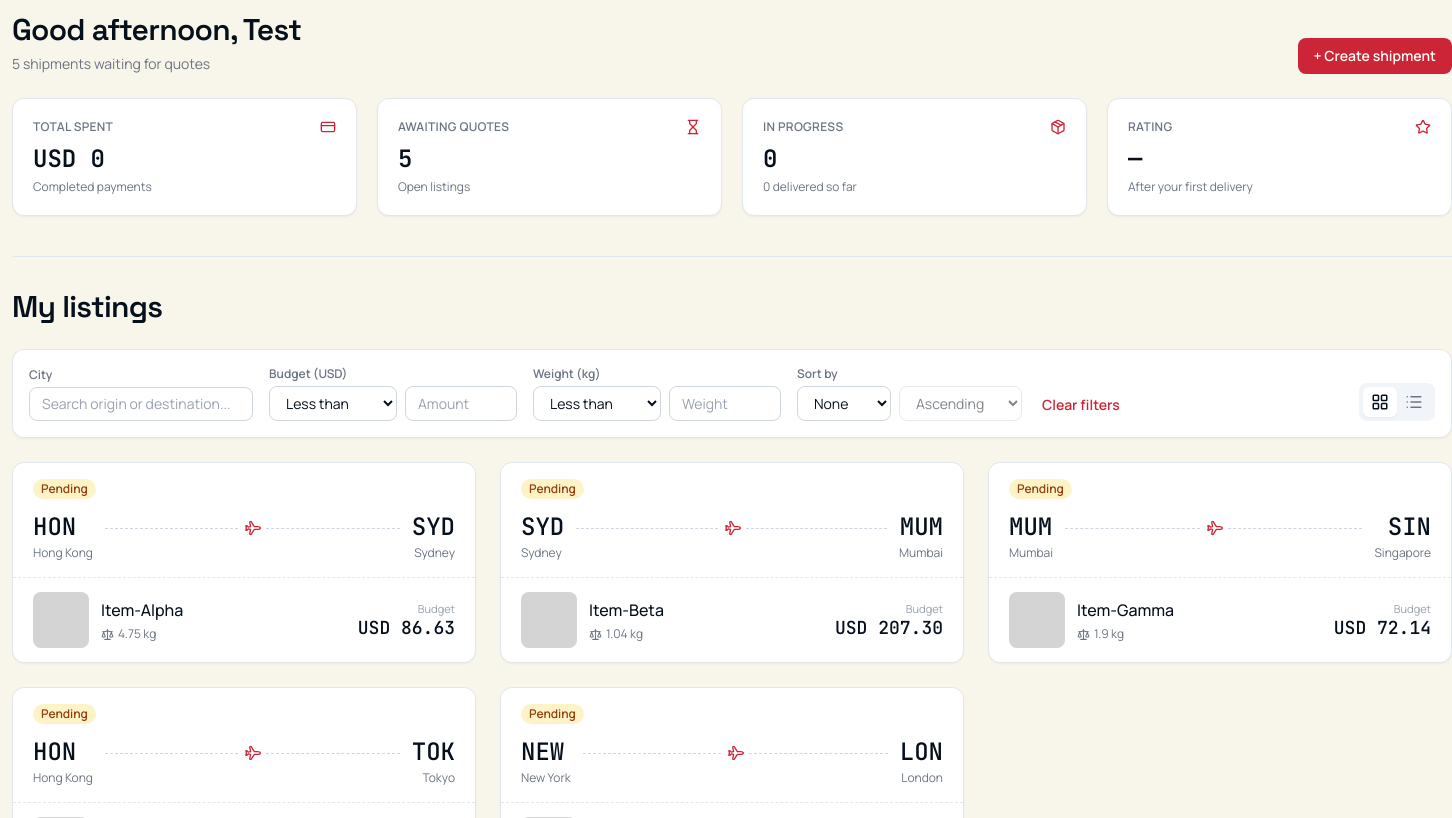
it: amount "greater than" is a strict comparison (excludes an exact match)
Expected: the text "Item-Alpha" is shown, [101, 599, 183, 621]
Select "Greater than" in the dropdown named "Amount operator" at x=333, y=404, box [269, 386, 397, 421]
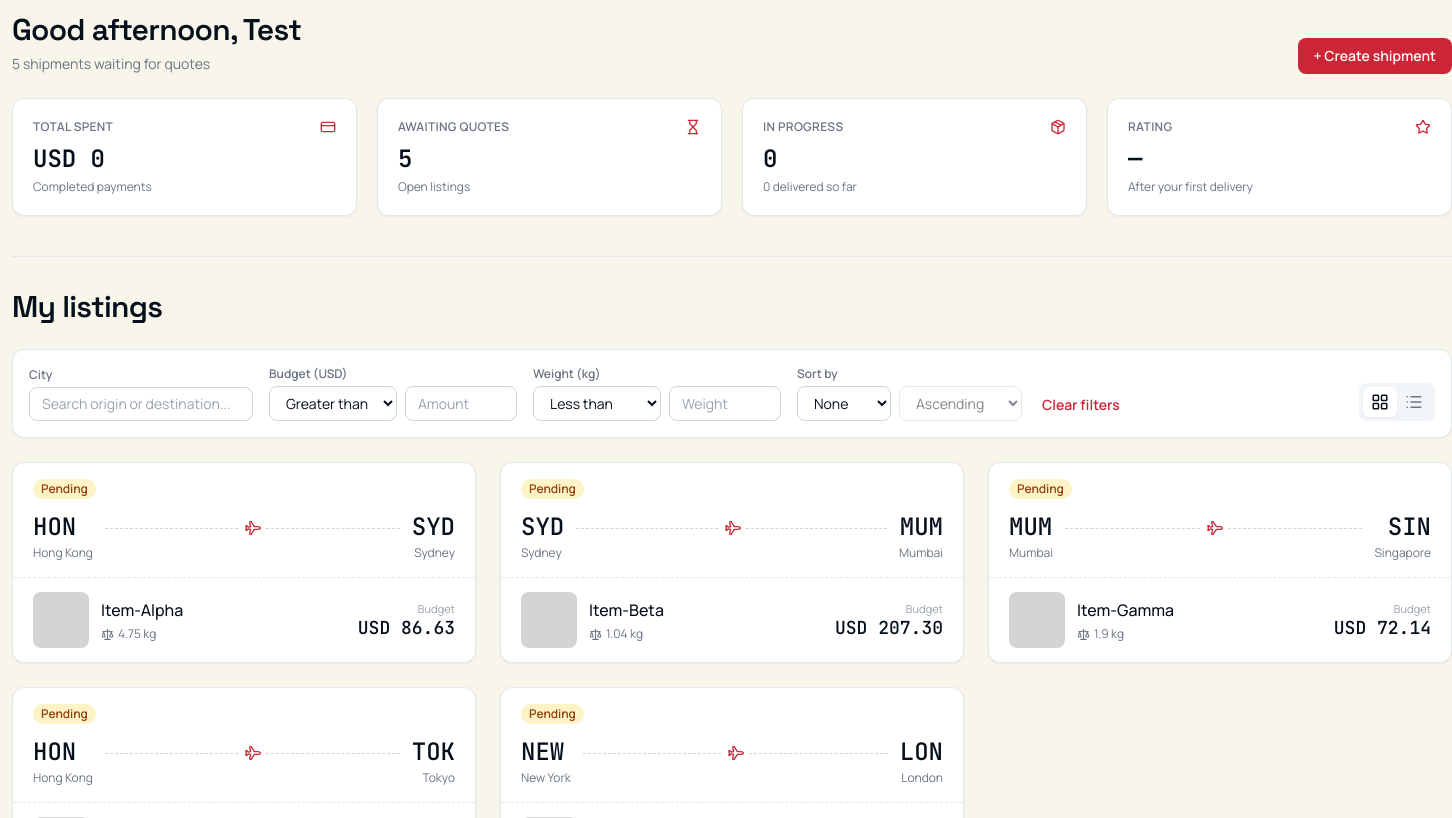
Type "100" into the number field named "Amount value".
click(461, 404); type("100")  # box [405, 386, 517, 421]
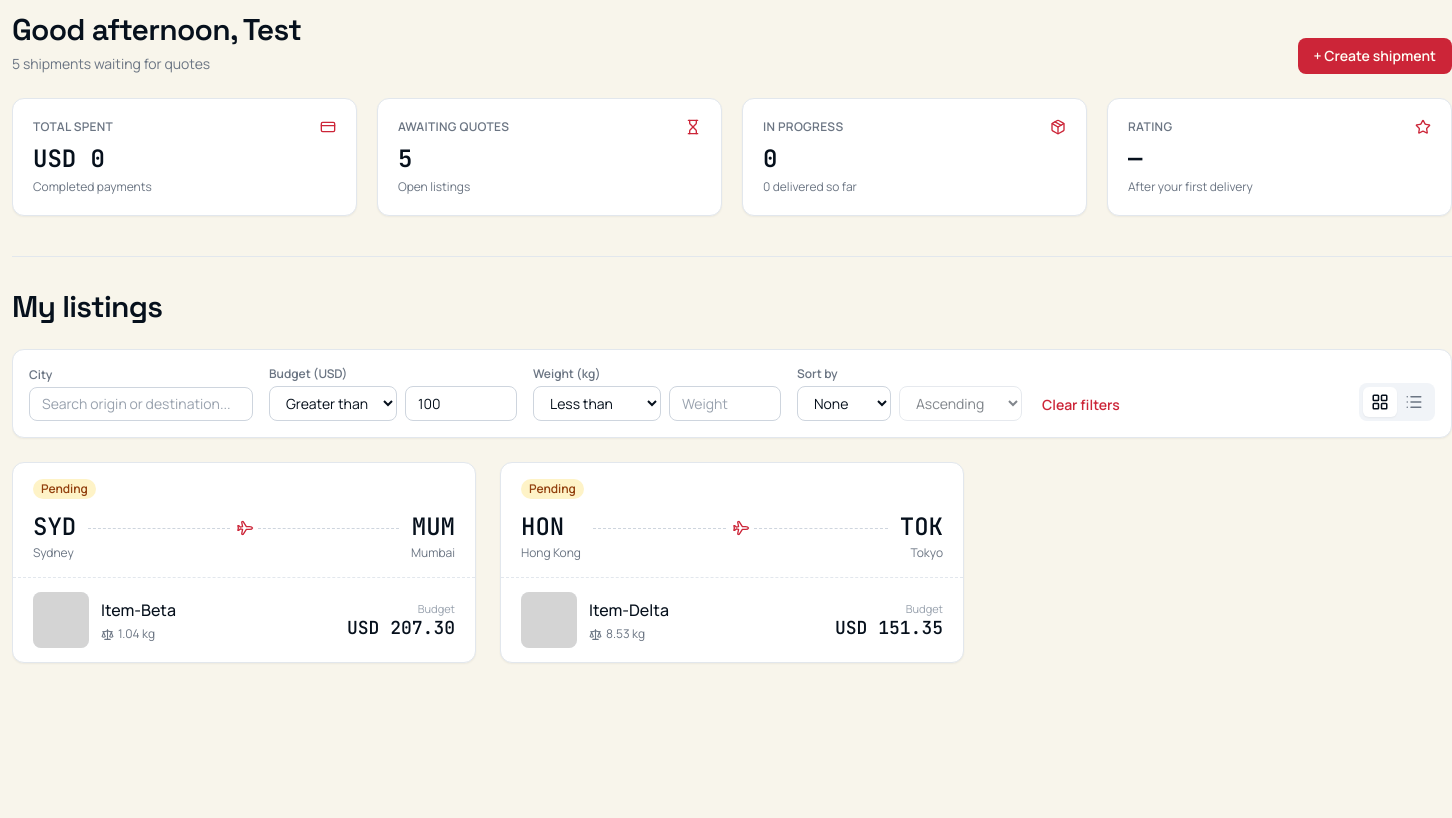
Expected: the text "Item-Beta" is shown, [101, 599, 176, 621]
Result: the link "Item-Alpha" is gone
Result: the link "Item-Gamma" is gone
